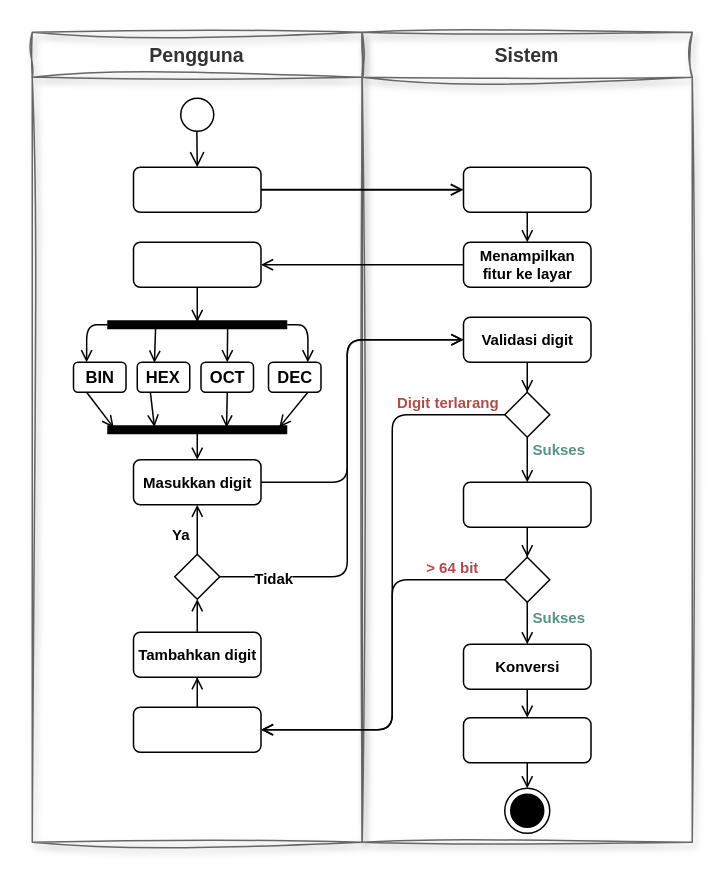
Some shapes in this 728 by 879 pixel diagram are drawn without their labels. The centre of each missing label's shape, as x and y in pixels:
Memproses aksi: pixel 526 189
Menampilkan hasil: pixel 526 739
Perbaiki digit: pixel 196 729
Pilih sistem bilangan: pixel 196 264
Tekan fitur Number System: pixel 196 189
Validasi jumlah digit: pixel 526 504
